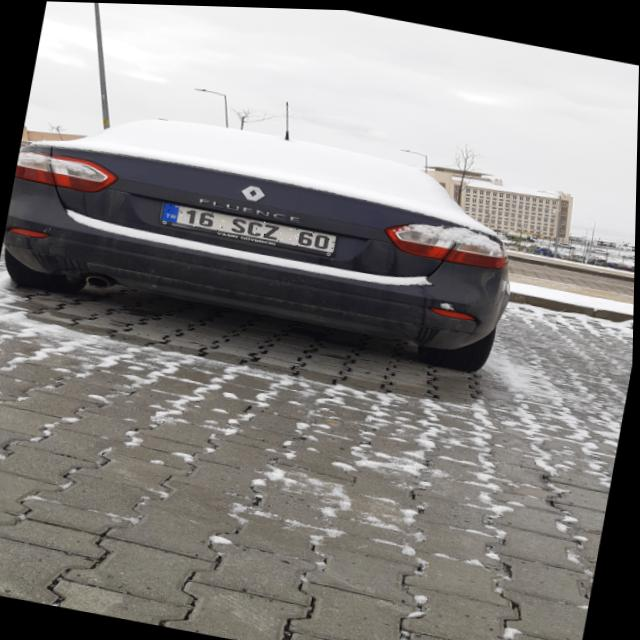license_plate: (160, 201, 339, 251)
